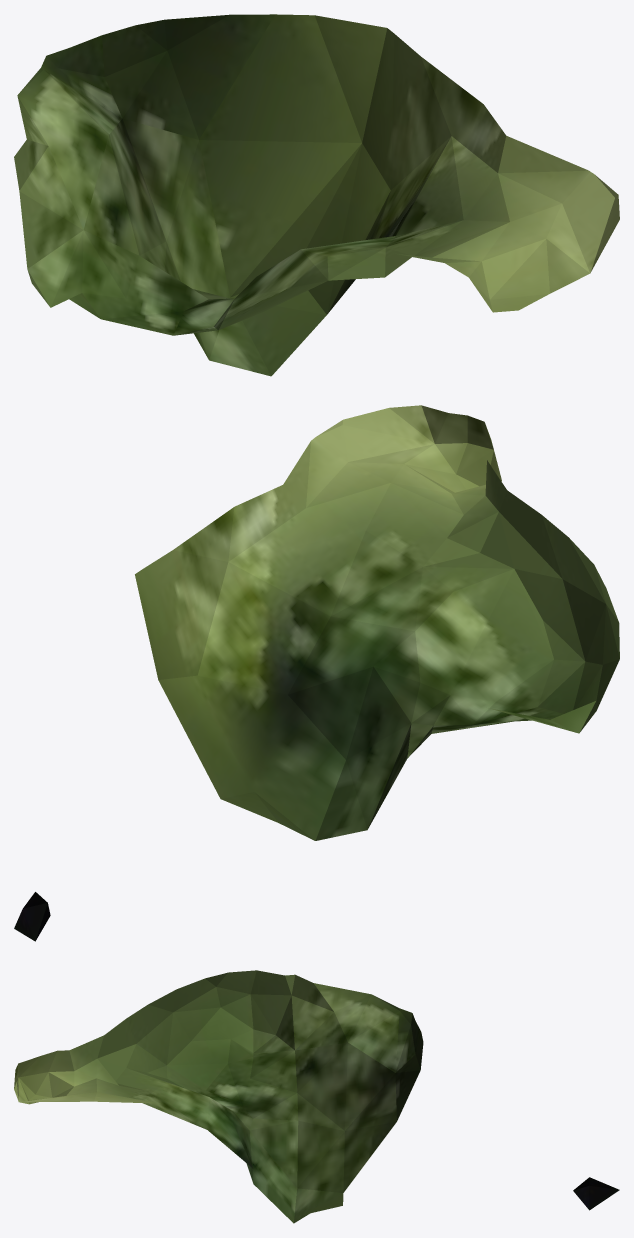
3 renders of one model, top to bottom at view 1: azimuth 30°, elevation 25°; view 2: azimuth 150°, elevation 25°; view 3: azimuth 270°, elevation 25°, orthographic. The views are drawn at different scales.
Size of the model in its own units: 1.08 by 0.6564 by 2.09.
Materials: 1 (1 with a texture image).
